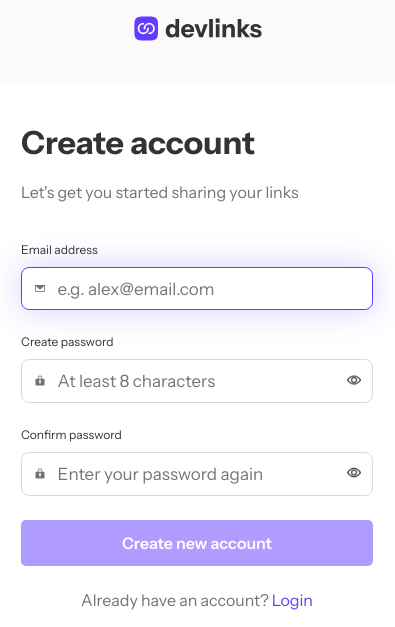
it: <Register /> › displays error messages if password is null
In the field with placeholder "e.g. alex@email.com": (209, 289) [58, 279, 361, 299], type "test@example.com"
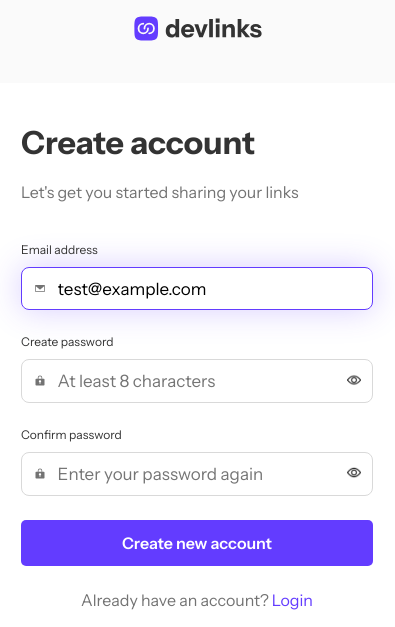
Click the button with test id "register-button": (197, 542) [21, 520, 373, 566]
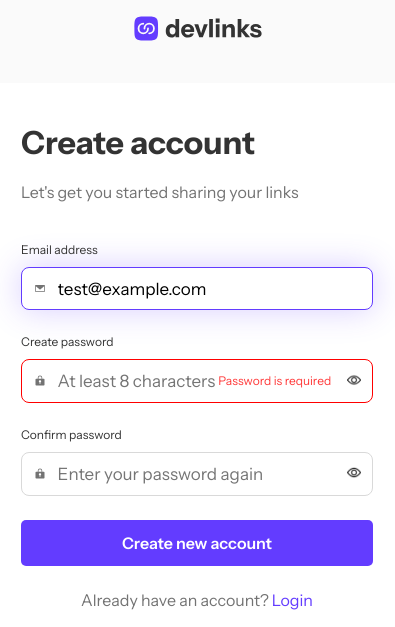
Expected: the text "Password is required" is shown, [218, 373, 331, 388]
